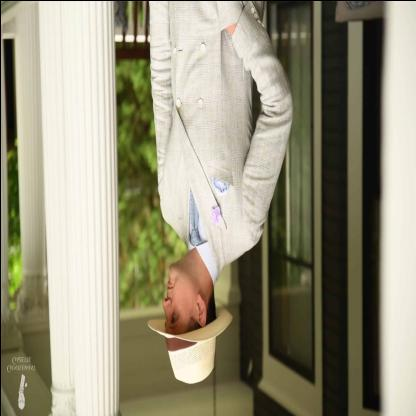hat: (142, 298, 233, 388)
